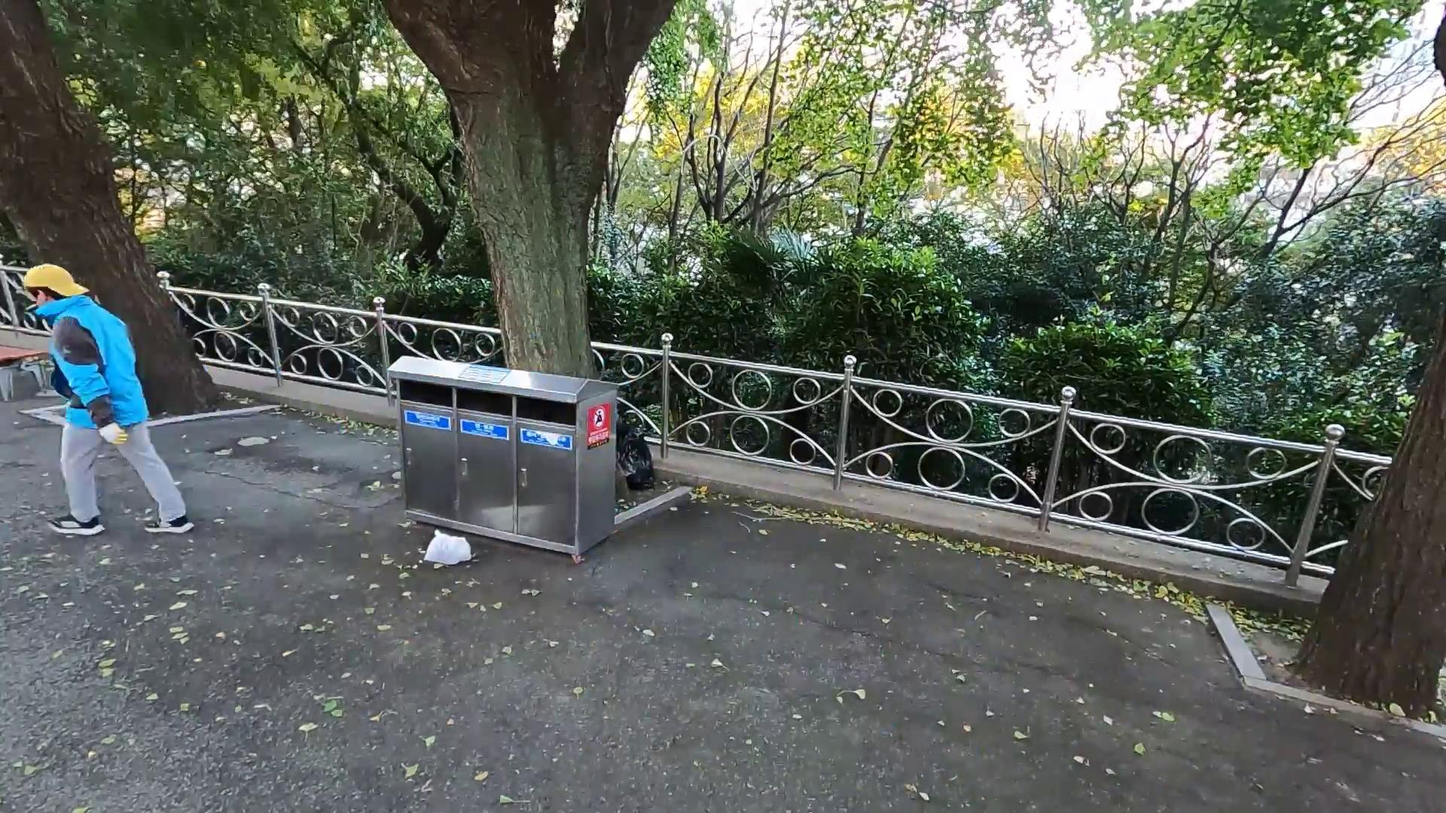person: (17, 260, 200, 536)
trash: (617, 411, 658, 496), (421, 528, 478, 570)
